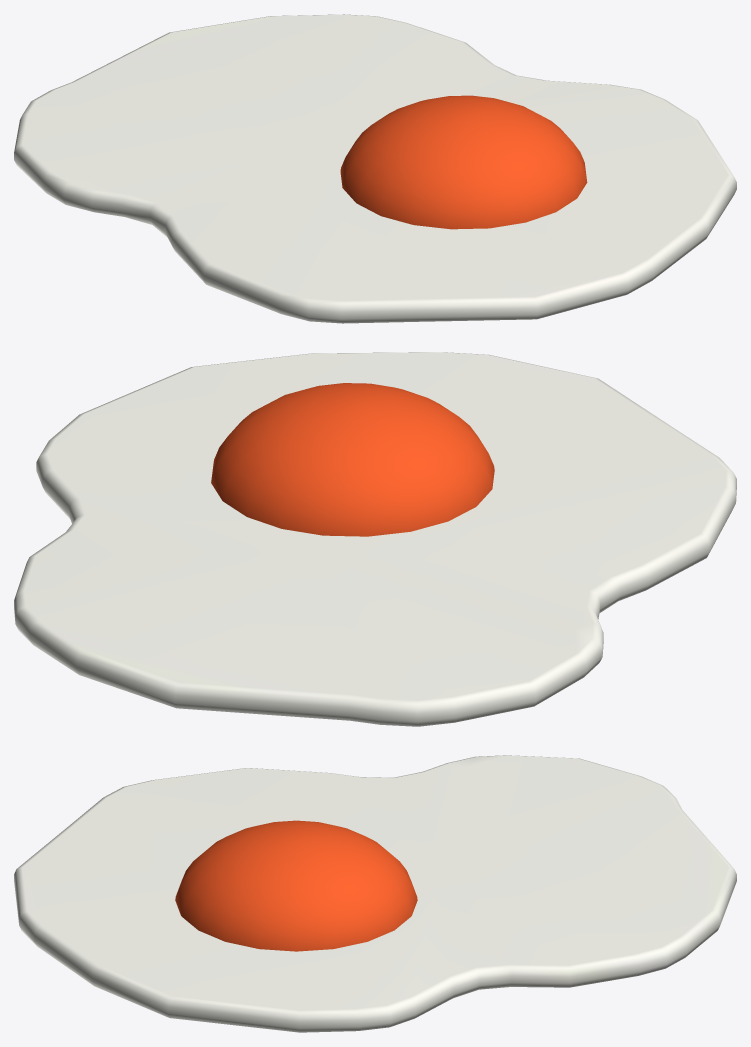
Rendered from Egg.fbx.
3 renders of one model, top to bottom at view 1: azimuth 30°, elevation 25°; view 2: azimuth 150°, elevation 25°; view 3: azimuth 270°, elevation 25°, orthographic. The views are drawn at different scales.
Parts seen in each view (by area): view 1: FORK:Egg; view 2: FORK:Egg; view 3: FORK:Egg.
Boxes of the visible parts, box(x1,y1,x2,y2) form: FORK:Egg: box(14, 14, 736, 323); FORK:Egg: box(14, 352, 736, 726); FORK:Egg: box(14, 755, 736, 1032).
Size of the model in its own units: 19.02 by 2.87 by 22.18.
